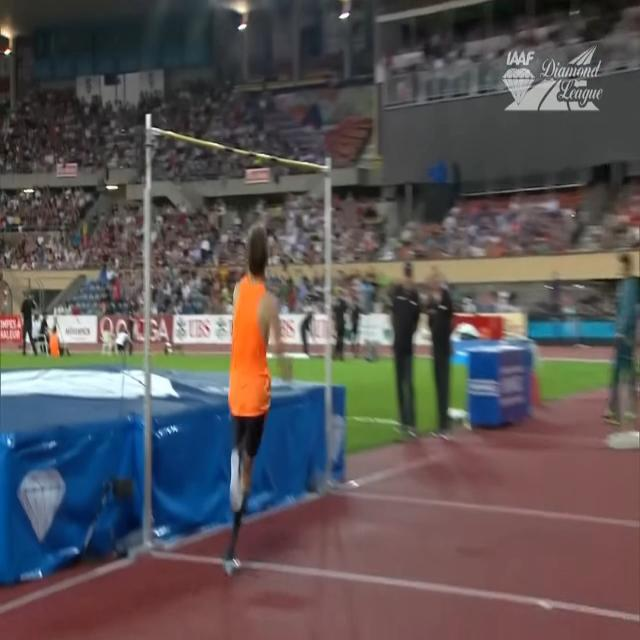jump: (225, 222, 293, 575)
